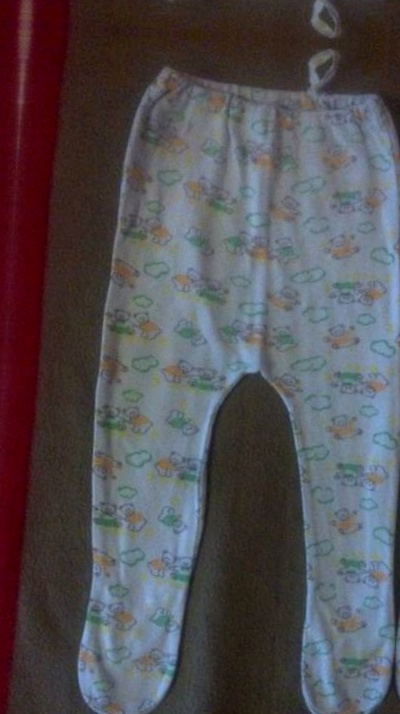Pants: (62, 68, 400, 714), (105, 0, 400, 10), (397, 88, 400, 714)
